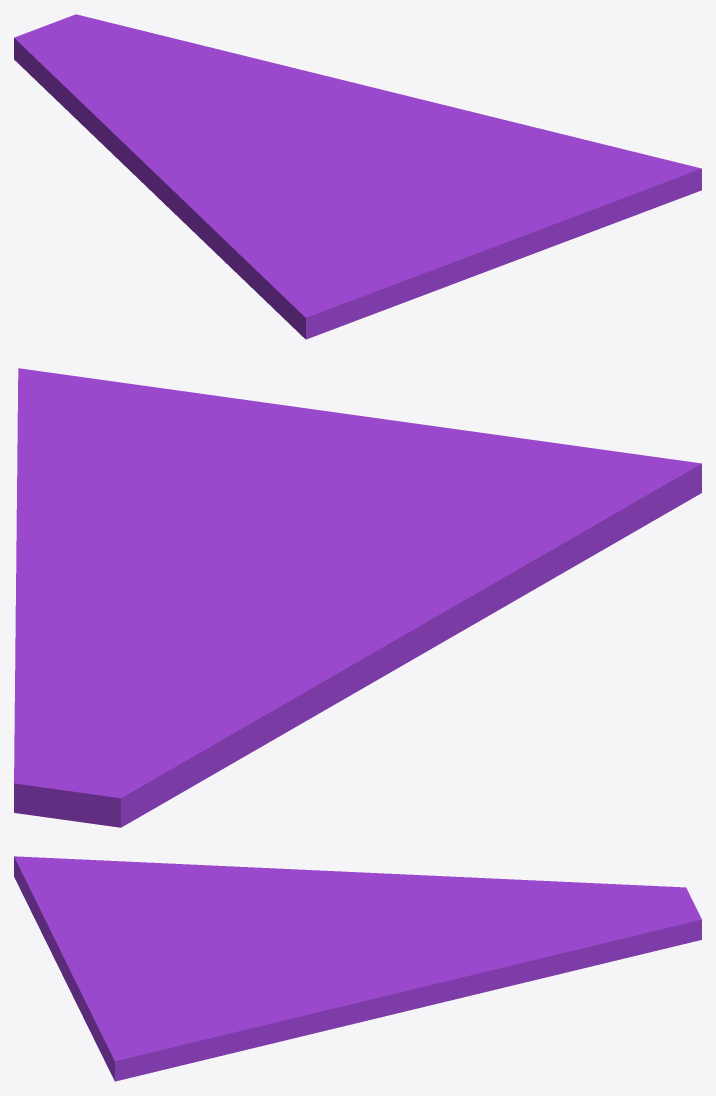
Rendered from StairsStep_34_chunks.fbx.
3 views of the same model, one above another, from view 1: azimuth 30°, elevation 25°; view 2: azimuth 150°, elevation 25°; view 3: azimuth 270°, elevation 25° (orthographic). The views are drawn at different scales.
Visible parts, largest first — view 1: StairsStep_34_2, StairsStep_34_0, StairsStep_34_3; view 2: StairsStep_34_0, StairsStep_34_2, StairsStep_34_3; view 3: StairsStep_34_2, StairsStep_34_0, StairsStep_34_3, StairsStep_34_1.
Part boxes in pixels (left/top/right/bottom): StairsStep_34_2: left=275, top=74, right=701, bottom=268; StairsStep_34_0: left=126, top=137, right=493, bottom=339; StairsStep_34_3: left=14, top=14, right=310, bottom=166; StairsStep_34_0: left=221, top=419, right=701, bottom=698; StairsStep_34_2: left=15, top=368, right=385, bottom=621; StairsStep_34_3: left=14, top=601, right=354, bottom=827; StairsStep_34_2: left=60, top=930, right=473, bottom=1081; StairsStep_34_0: left=14, top=856, right=414, bottom=972; StairsStep_34_3: left=374, top=875, right=701, bottom=976; StairsStep_34_1: left=453, top=968, right=547, bottom=999.
Size of the model in its own units: 388 by 17.94 by 551.
